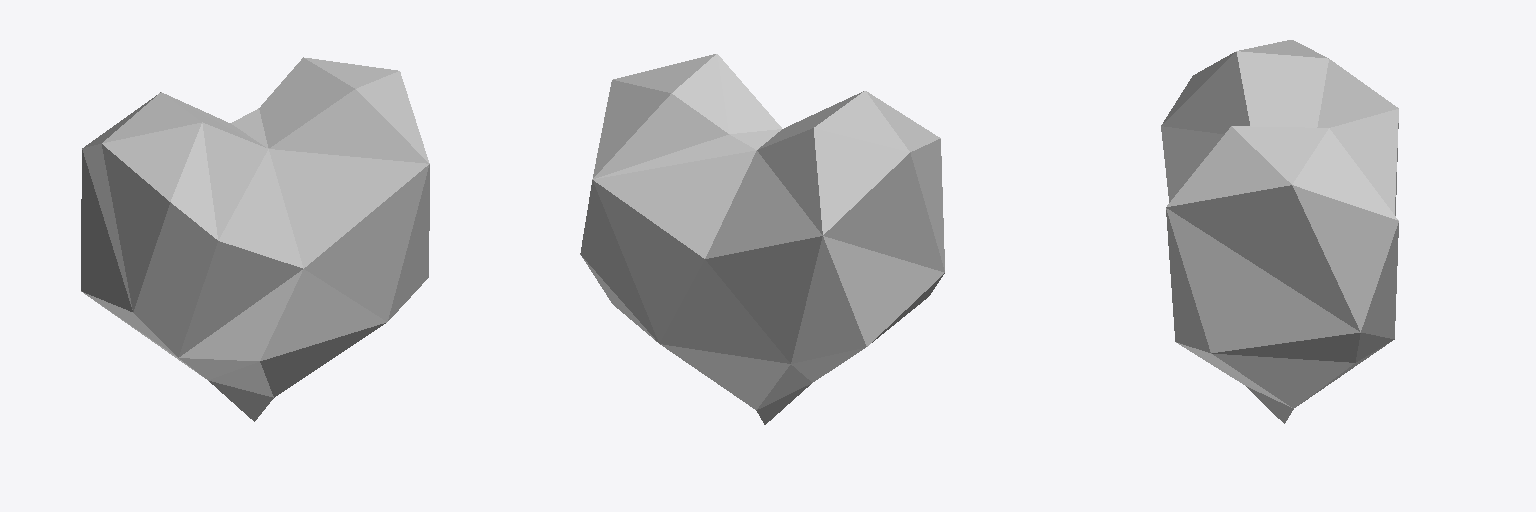
File: heart.obj
The picture shows the model from 3 angles: view 1: azimuth 30°, elevation 25°; view 2: azimuth 150°, elevation 25°; view 3: azimuth 270°, elevation 25°; orthographic projection.
Parts seen in each view (by area): view 1: Sphere; view 2: Sphere; view 3: Sphere.
Part boxes in pixels (bbox=[...]): Sphere: bbox=[81, 57, 429, 421]; Sphere: bbox=[580, 54, 944, 424]; Sphere: bbox=[1161, 40, 1398, 423].
Size of the model in its own units: 2.85 by 3.05 by 1.96.